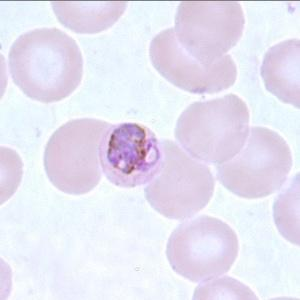Infected: (100, 121, 162, 189)
Uninfected: (217, 126, 294, 201), (42, 115, 115, 194), (151, 26, 237, 93), (143, 139, 216, 217), (12, 26, 86, 99), (166, 218, 241, 282), (175, 97, 250, 160), (175, 0, 244, 64)
